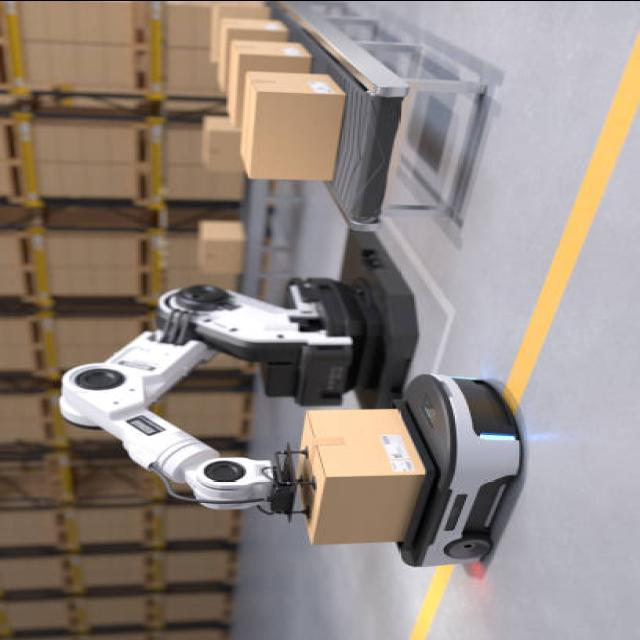Robotic-arm: (50, 279, 376, 517)
